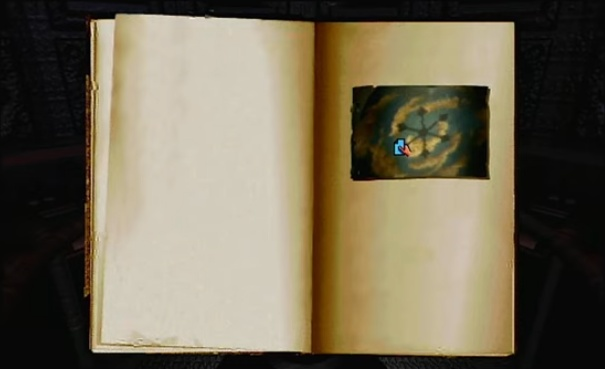Keep: (392, 136, 416, 159)
